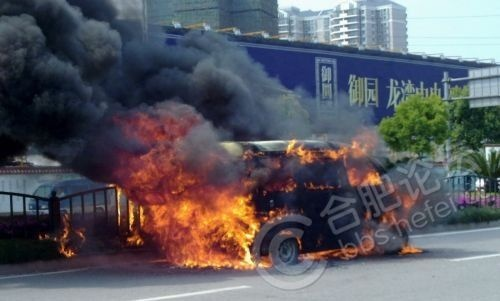fire: (113, 113, 403, 270), (45, 213, 89, 258)
